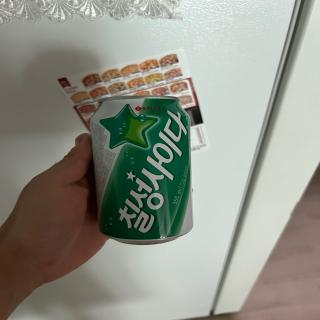chilsung: (84, 92, 198, 245)
